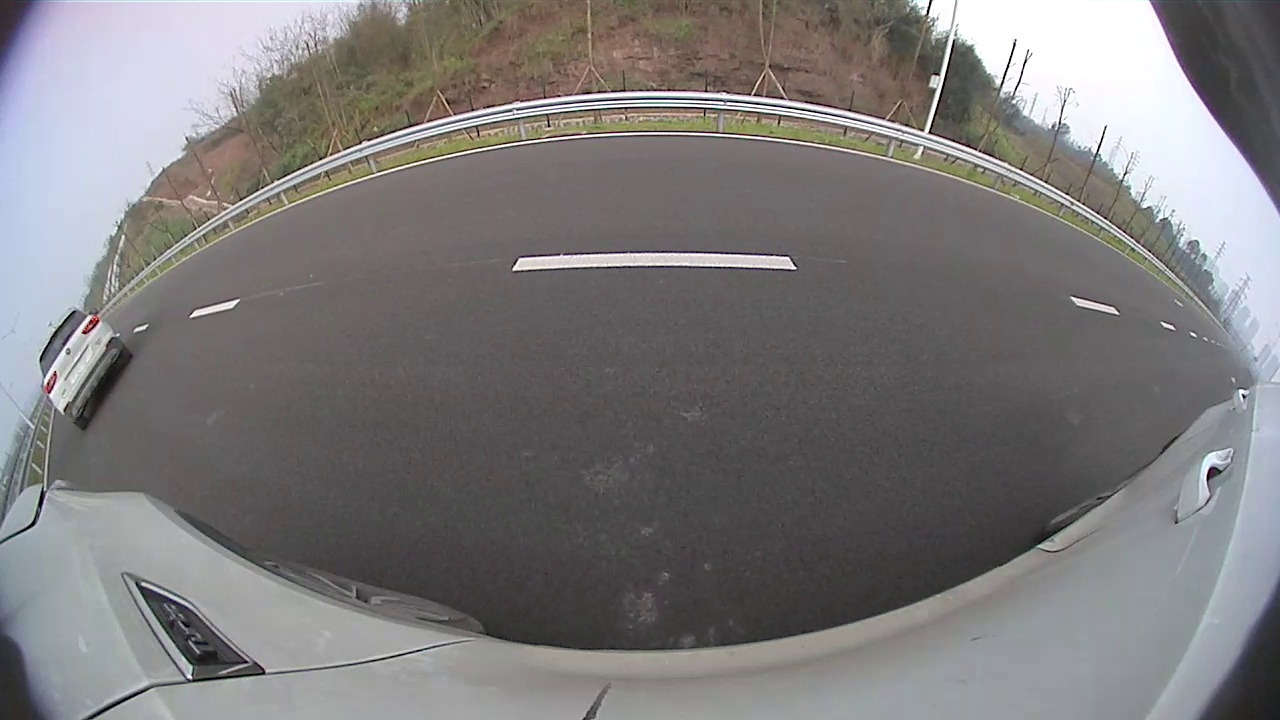car: (558, 141, 629, 204)
